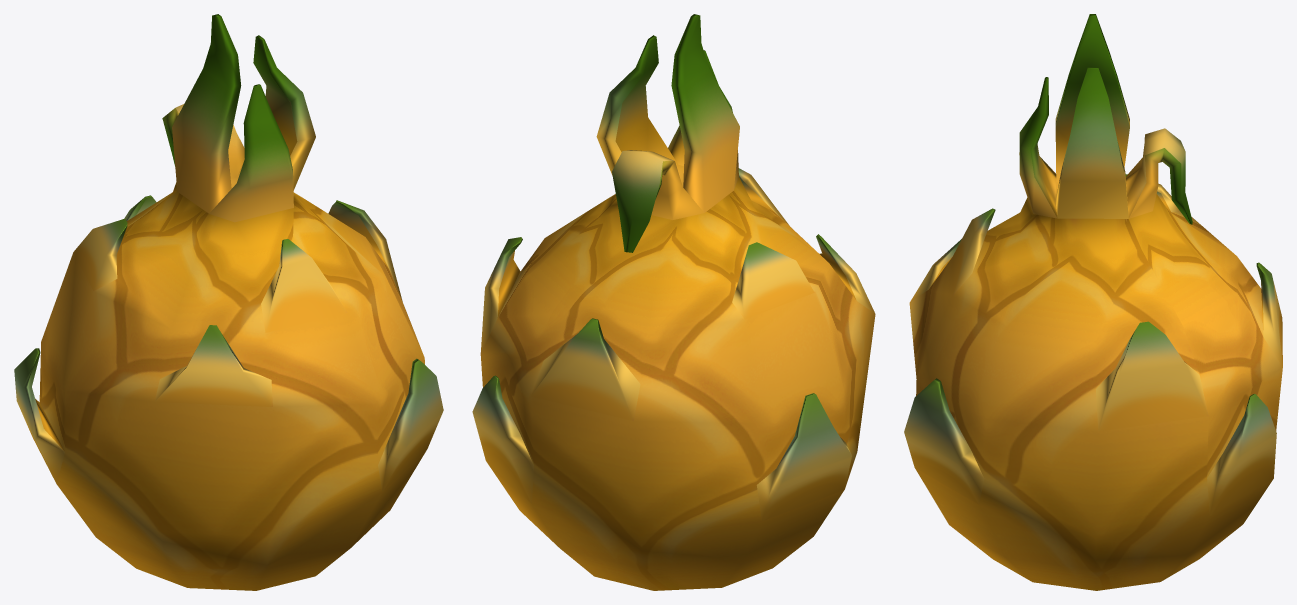
The model's file is DragonFruit.fbx.
3 renders of one model, left to right at view 1: azimuth 30°, elevation 25°; view 2: azimuth 150°, elevation 25°; view 3: azimuth 270°, elevation 25°, orthographic. The views are drawn at different scales.
Parts seen in each view (by area): view 1: Dragonfruit_Yellow; view 2: Dragonfruit_Yellow; view 3: Dragonfruit_Yellow.
Part boxes in pixels (x1,y1,x2,y2): Dragonfruit_Yellow: (14,14,443,590); Dragonfruit_Yellow: (472,14,875,590); Dragonfruit_Yellow: (904,14,1282,590).
Size of the model in its own units: 39.01 by 59.3 by 36.64.
